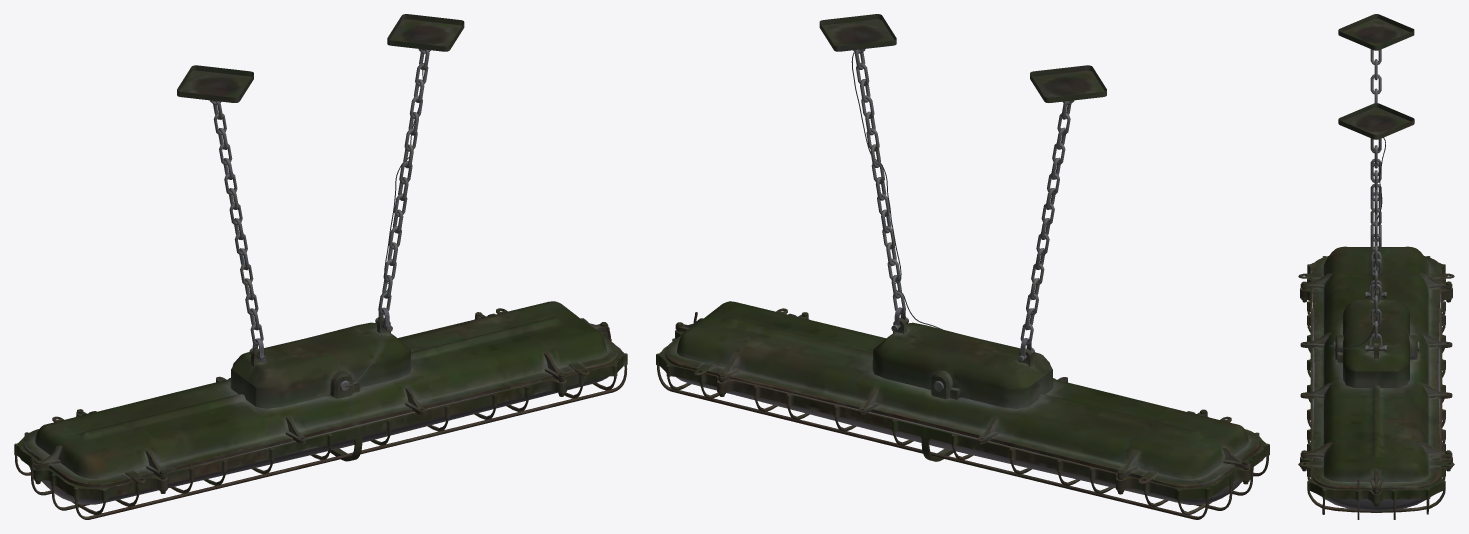
The model's file is caged_hanging_light.glb.
3 renders of one model, left to right at view 1: azimuth 30°, elevation 25°; view 2: azimuth 150°, elevation 25°; view 3: azimuth 270°, elevation 25°, orthographic. The views are drawn at different scales.
Visible parts, largest first — view 1: caged_hanging_light_mesh; view 2: caged_hanging_light_mesh; view 3: caged_hanging_light_mesh.
Part boxes in pixels (box(x1,y1,x2,y2)): caged_hanging_light_mesh: box(14, 14, 627, 519); caged_hanging_light_mesh: box(656, 14, 1269, 519); caged_hanging_light_mesh: box(1298, 14, 1454, 519).
Size of the model in its own units: 1.16 by 0.7501 by 0.3149.
1 material, 1 textured.
